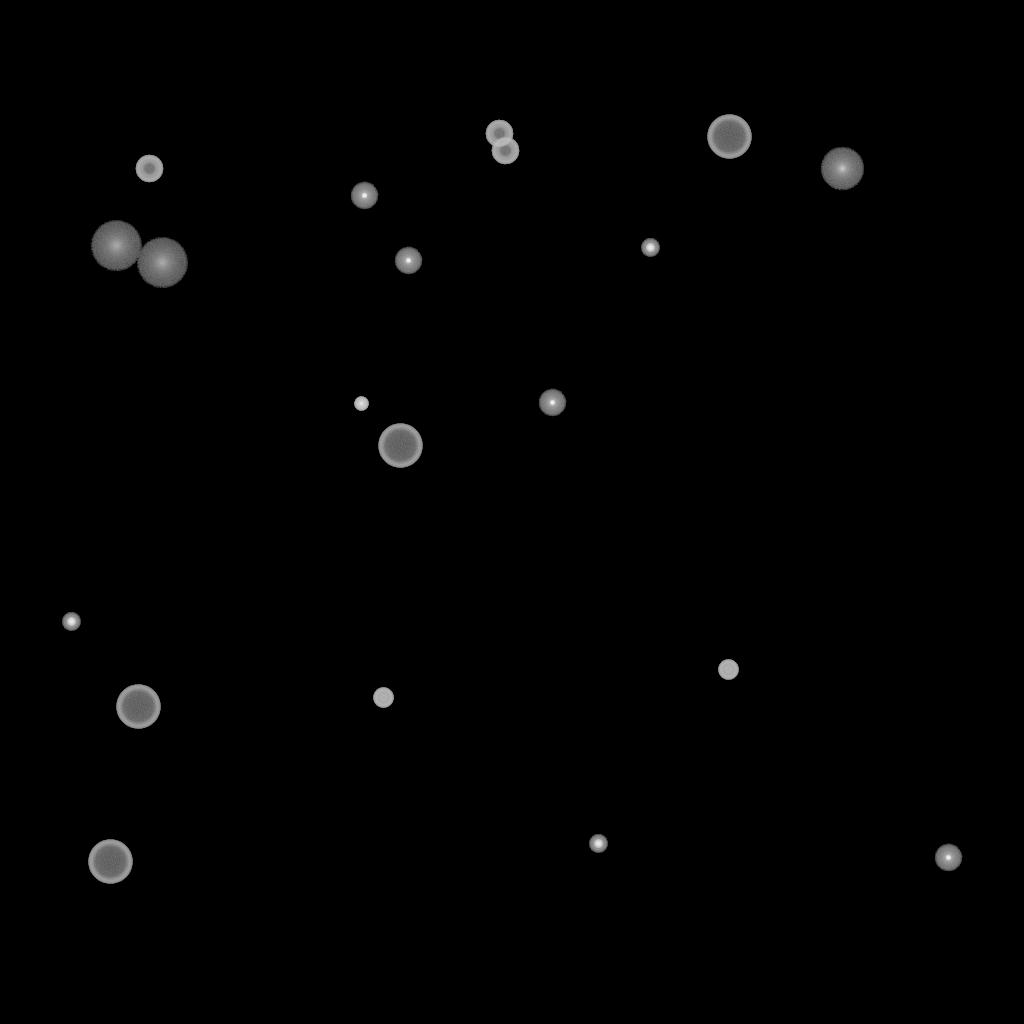depth:-10: (934, 844, 962, 872), (538, 389, 566, 417), (394, 247, 422, 275), (350, 182, 378, 210)
depth:-20: (589, 835, 607, 853), (641, 239, 659, 257), (62, 613, 80, 631)
depth:-30: (354, 397, 368, 411)
depth:-40: (718, 660, 738, 680), (373, 688, 393, 708)
depth:-50: (485, 120, 513, 148), (491, 137, 519, 165), (135, 155, 163, 183)
depth:-70: (378, 424, 422, 468), (707, 115, 751, 159), (116, 685, 160, 729), (88, 840, 132, 884)
depth:10: (820, 147, 864, 191)
depth:20: (136, 238, 188, 288), (90, 221, 142, 271)
